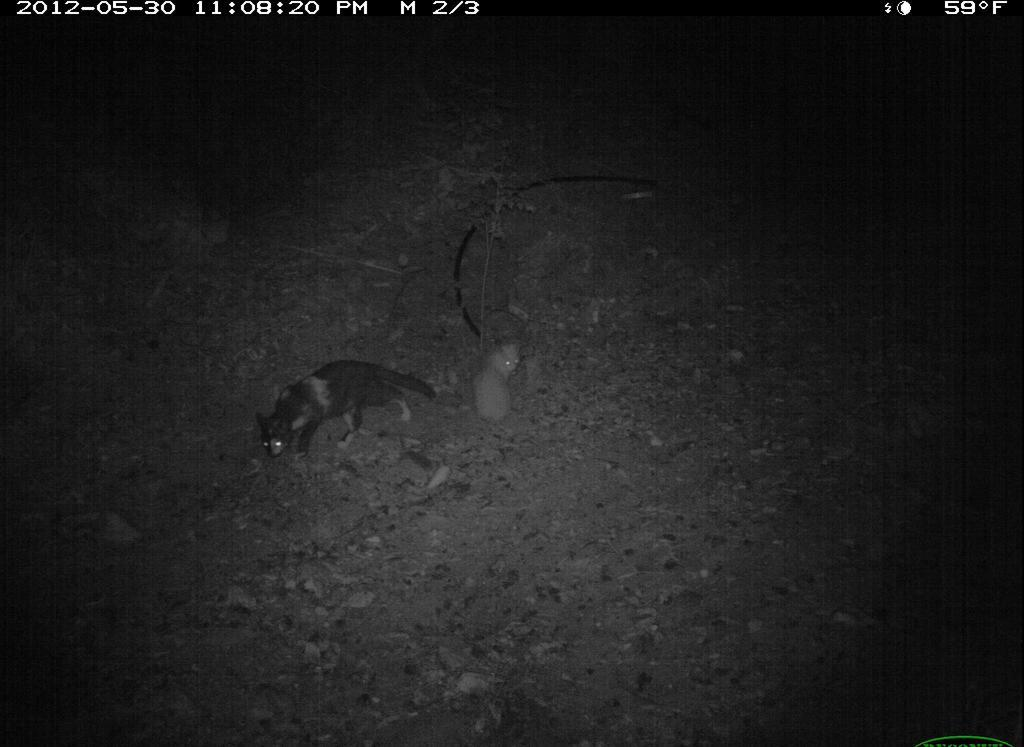cat: (251, 354, 451, 461), (469, 341, 523, 431)
